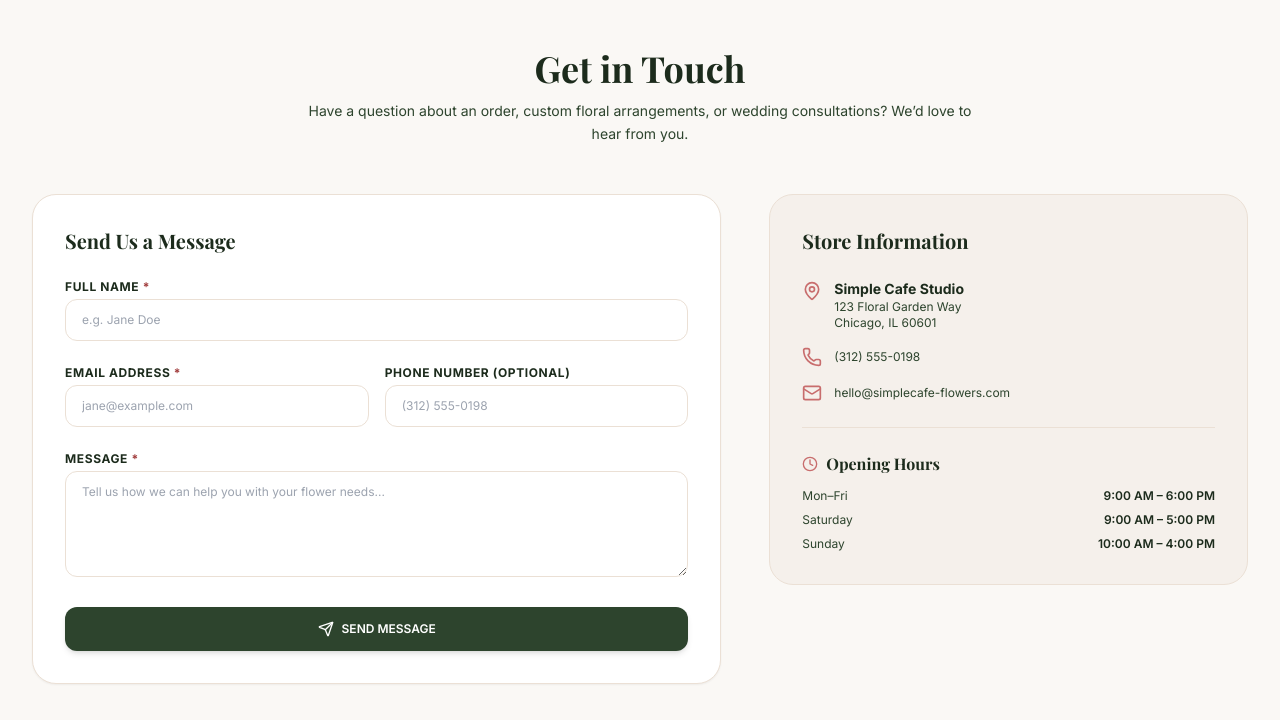
Test case: Contact Form Validation › shows validation errors when submitted empty
Click the button "SEND MESSAGE" at point(377, 628), box [65,606,688,650]
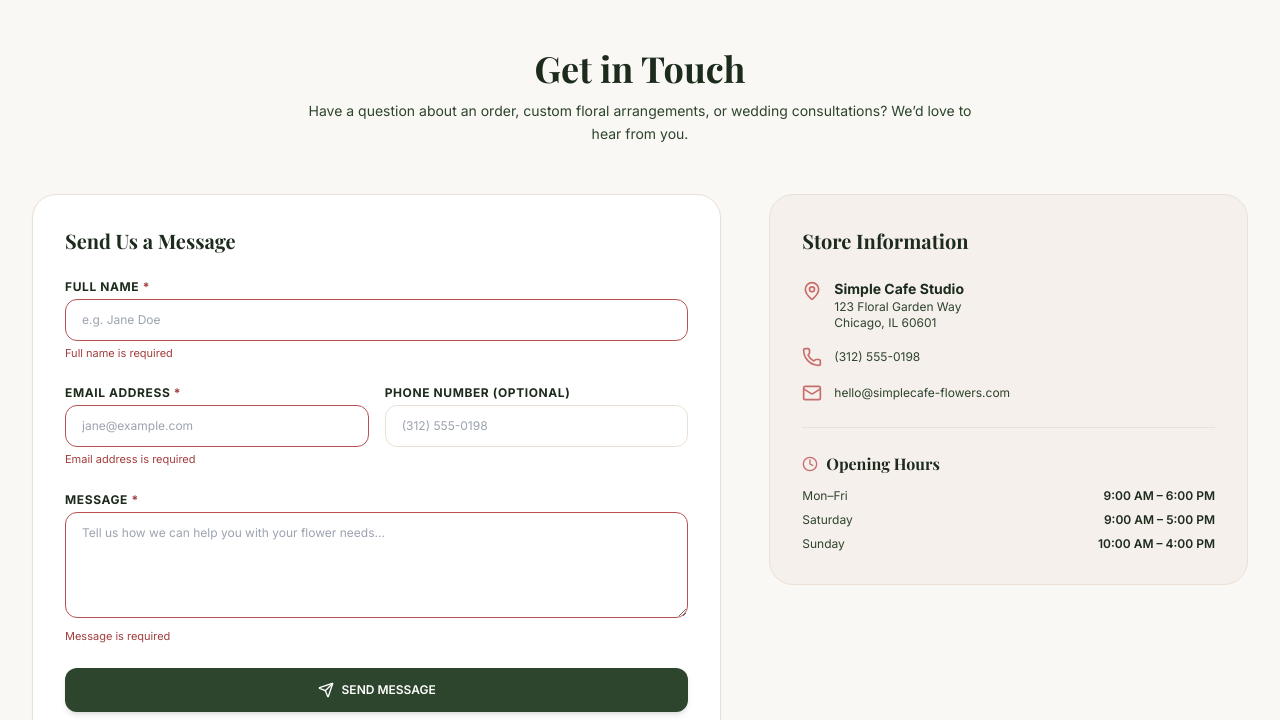
Now the text "Full name is required" is shown, box [65,346,173,360]
Now the text "Email address is required" is shown, box [65,452,196,466]
Now the text "Message is required" is shown, box [65,628,170,642]
